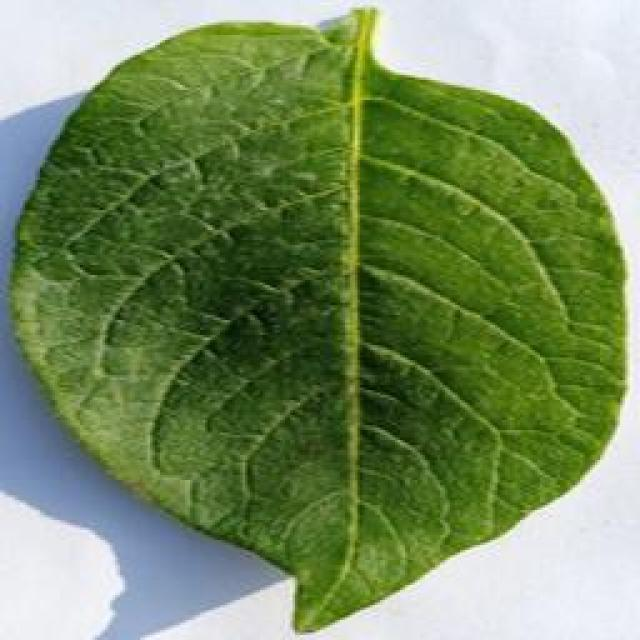Potato_Healthy: (3, 6, 633, 628)
